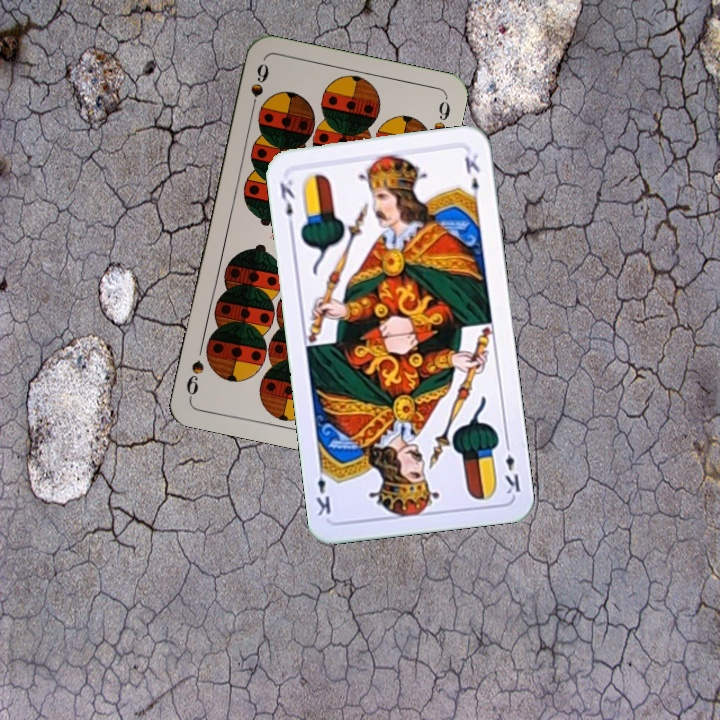EK: (500, 437, 523, 497), (275, 175, 297, 231)
S9: (246, 59, 272, 117)
